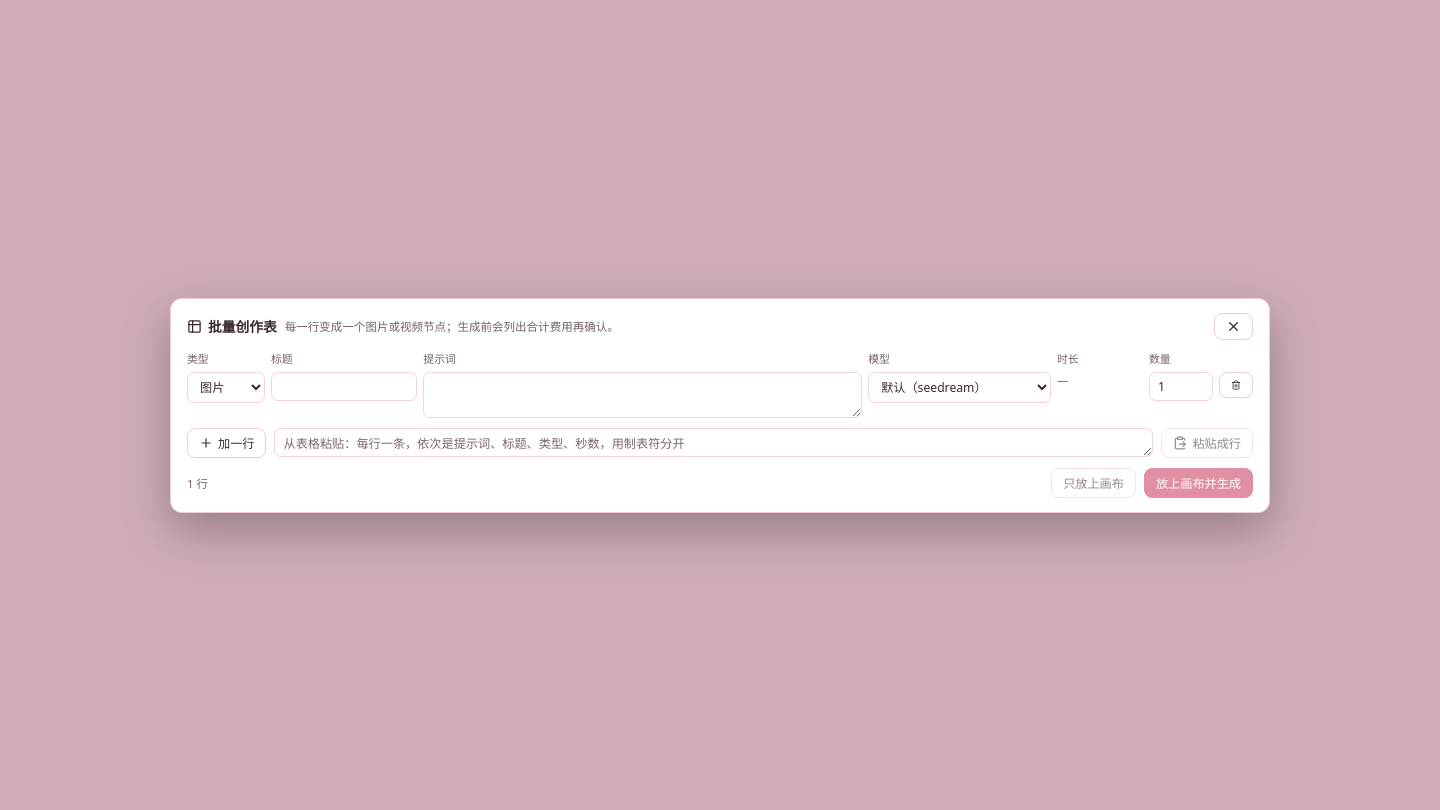
CanvasBatchTable › creates only, without spending
Expected: the button "只放上画布" is disabled, x1=1051 y1=468 x2=1136 y2=498
Step 1. Type "雨夜码头" into the text box named "第 1 行 提示词" → (643, 394), box x1=423 y1=372 x2=862 y2=418
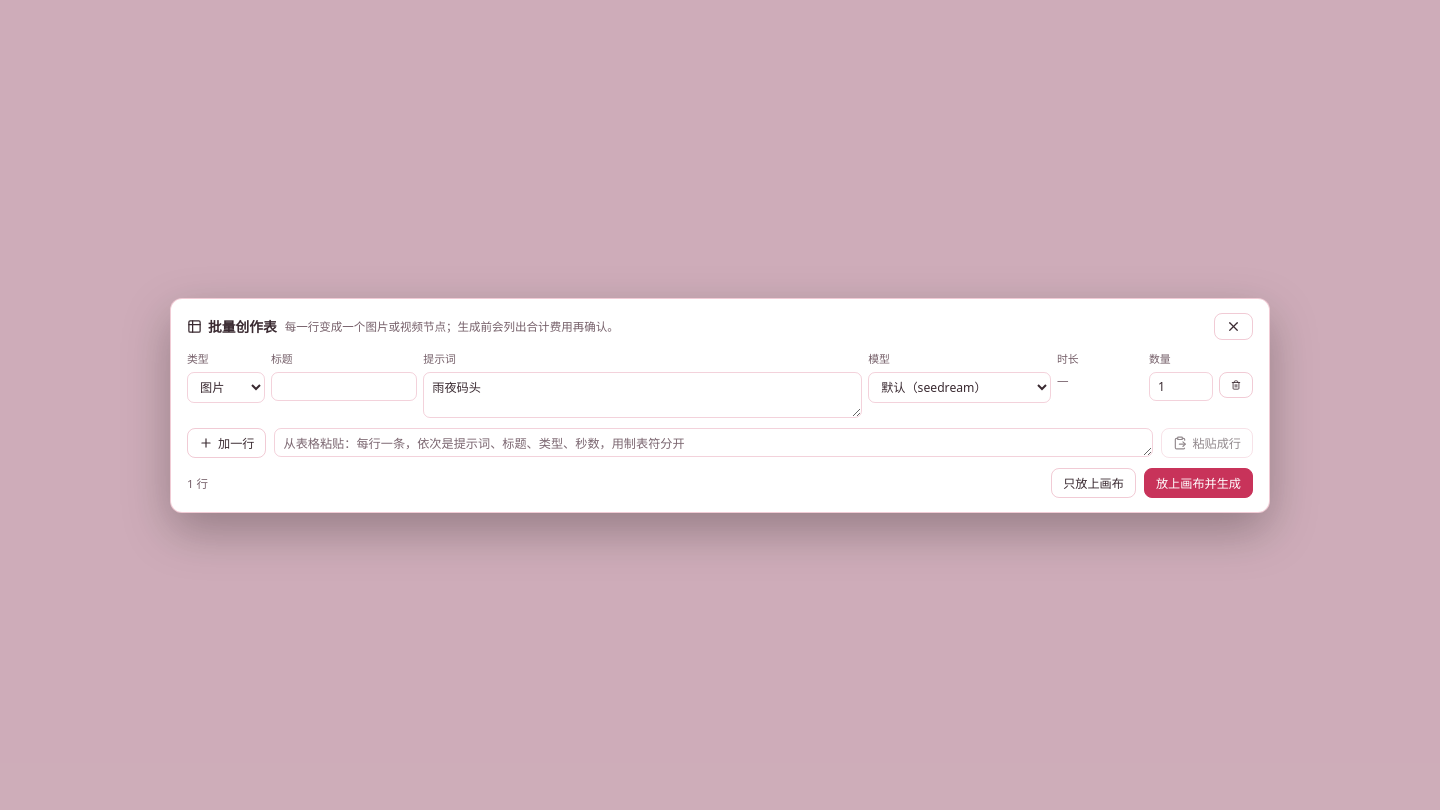
Step 2. Click the button "只放上画布" → (1094, 482), box x1=1051 y1=468 x2=1136 y2=498
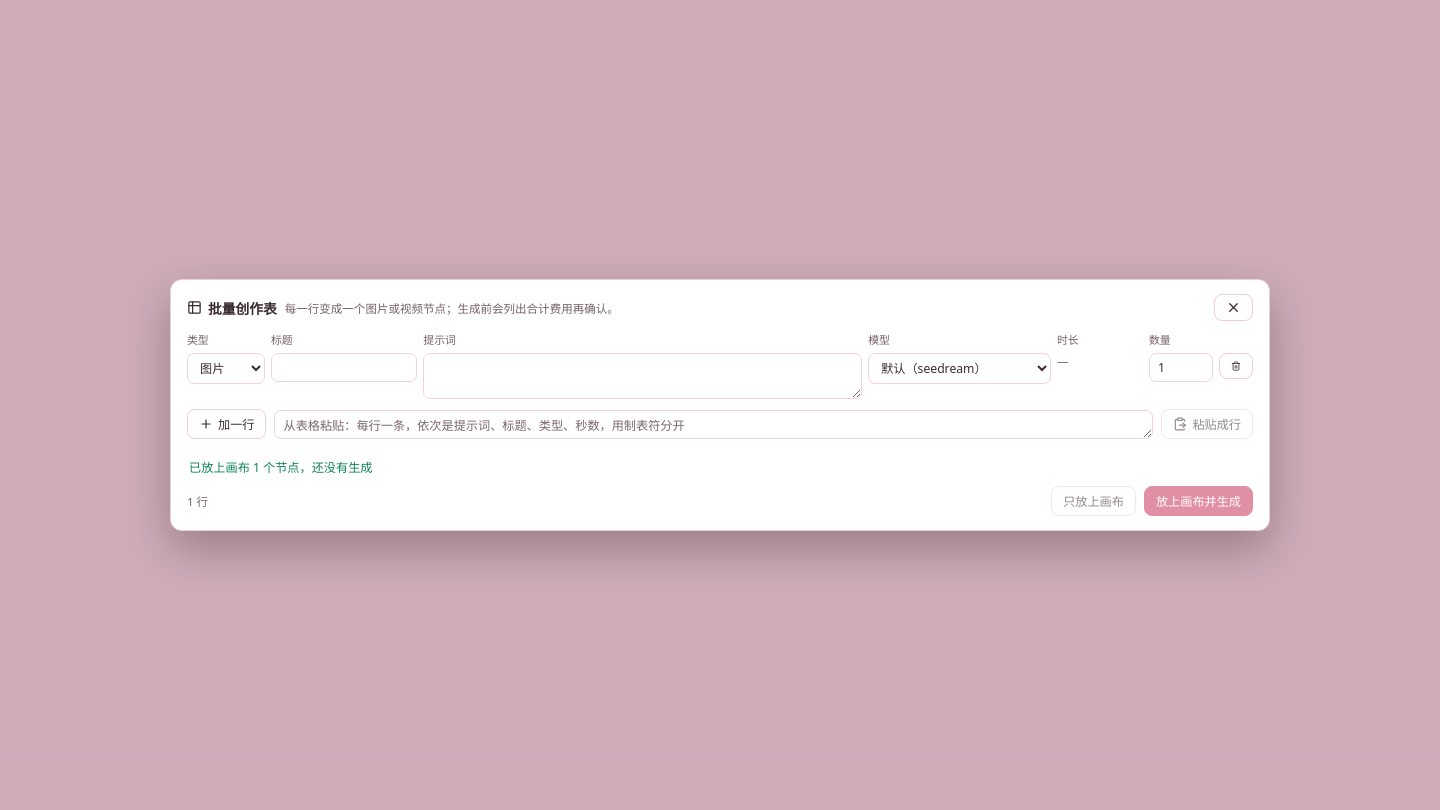
Result: the message reads "已放上画布 1 个节点，还没有生成" at x1=189 y1=459 x2=372 y2=476
